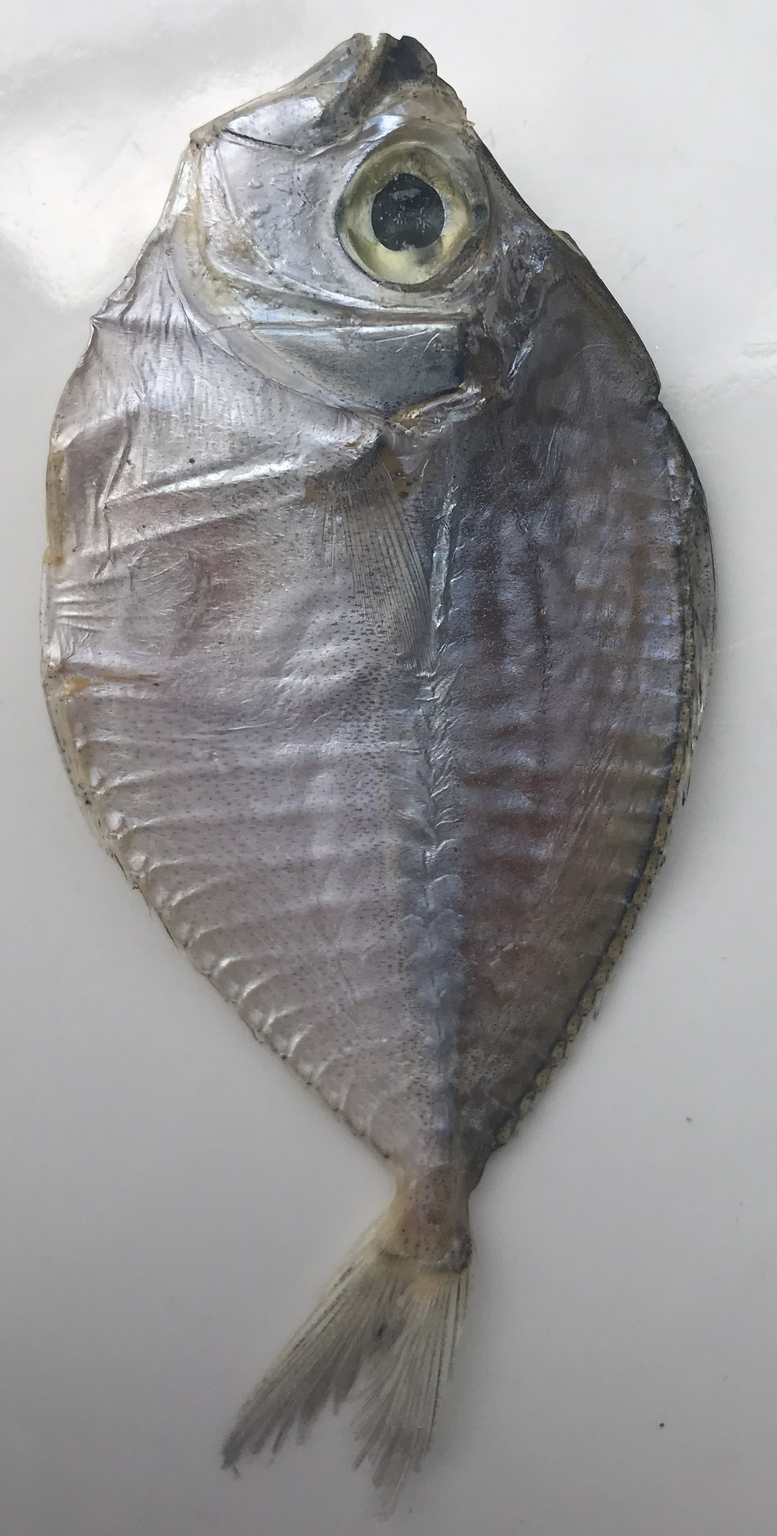sap_sap_dried: (0, 33, 777, 1536)
